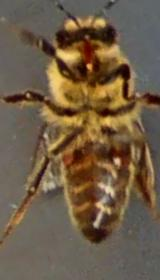varroa_mite: (52, 140, 78, 178), (101, 141, 129, 172)
